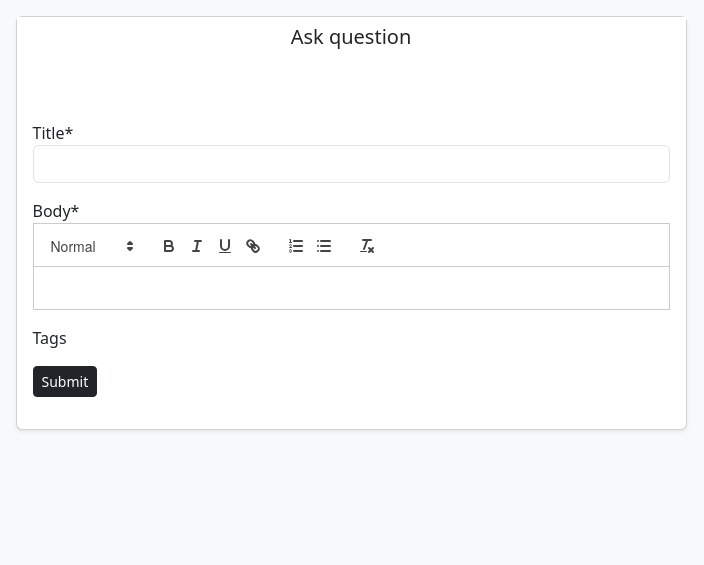
Test case: Ask Component › prevents submission when required fields are empty
Click the button "Submit".
click(65, 382)  # box x1=32 y1=366 x2=97 y2=397
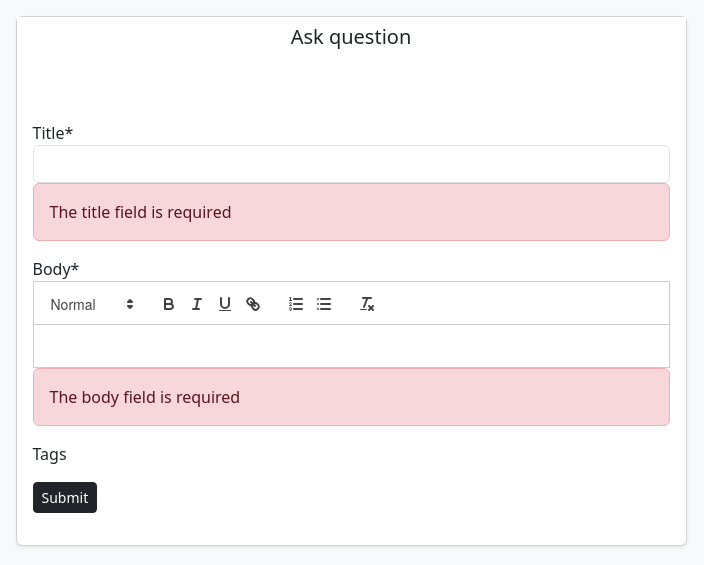
Now the text "The title field is required" is shown, box x1=32 y1=183 x2=670 y2=241
Now the text "The body field is required" is shown, box x1=32 y1=368 x2=670 y2=426
